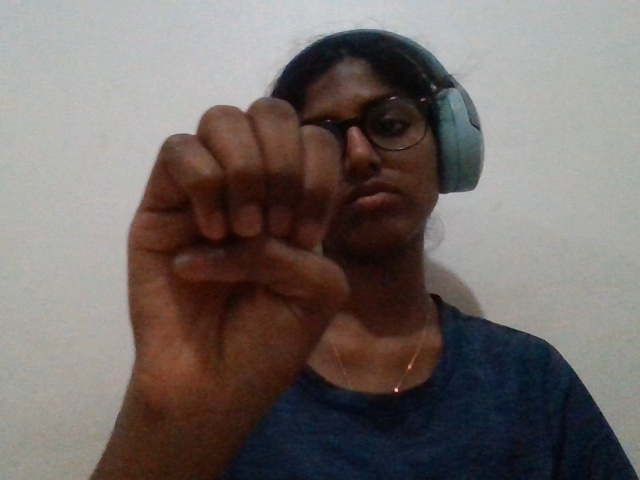E: (83, 78, 396, 464)
